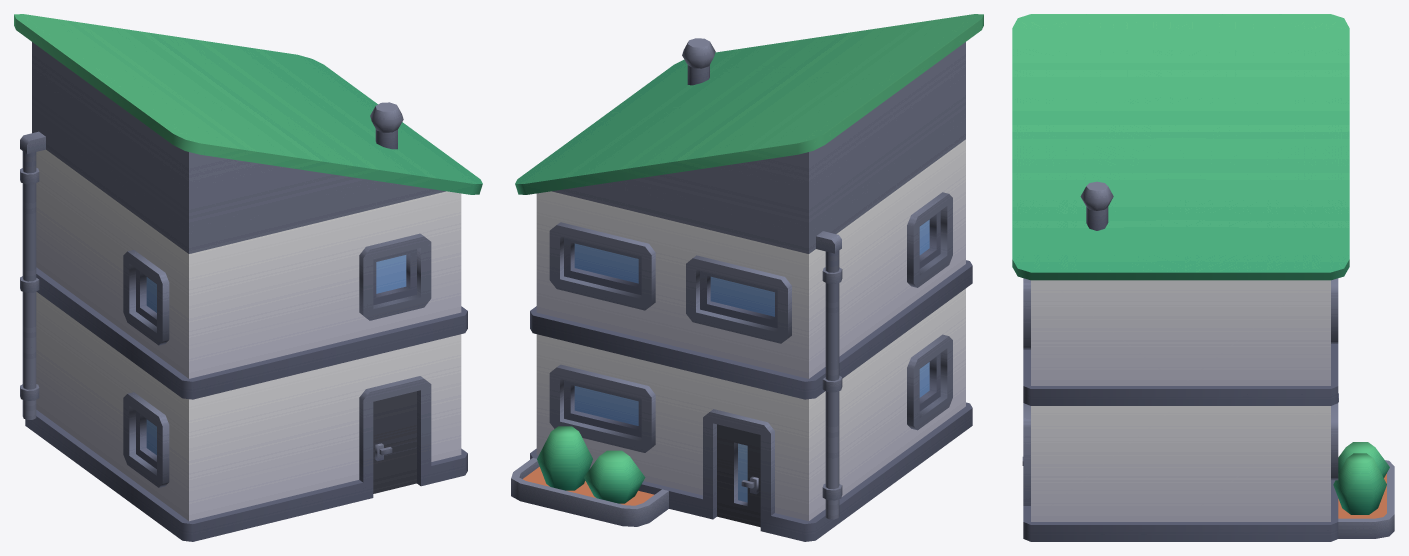
File: building-type-k.glb
3 renders of one model, left to right at view 1: azimuth 30°, elevation 25°; view 2: azimuth 150°, elevation 25°; view 3: azimuth 270°, elevation 25°, orthographic. The views are drawn at different scales.
Visible parts, largest first — view 1: building-type-k; view 2: building-type-k; view 3: building-type-k.
Boxes of the visible parts, x1,y1,x2,y2 form: building-type-k: (14,14,482,541); building-type-k: (511,14,983,541); building-type-k: (1012,14,1394,541).
Bounding box in the file's own units: 0.921 × 1.15 × 1.02.
Materials: 1 (1 with a texture image).
